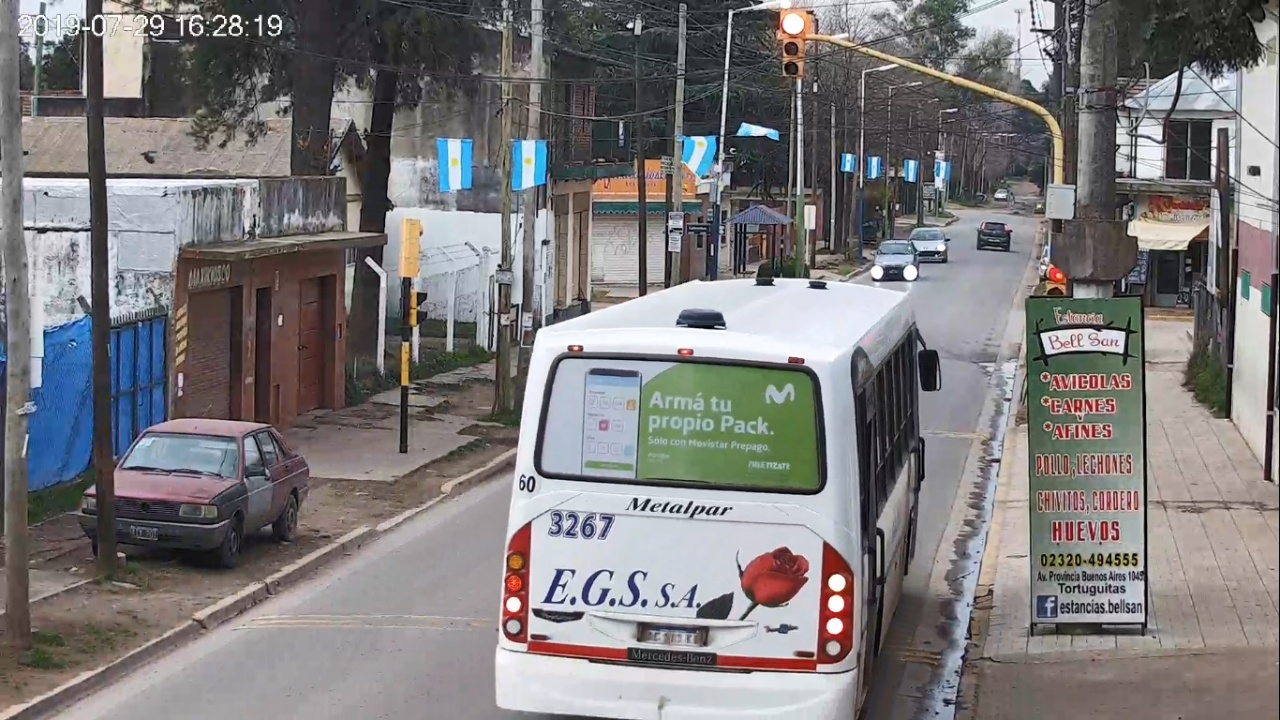bus: (495, 278, 943, 720)
traffic light: (781, 11, 804, 76)
